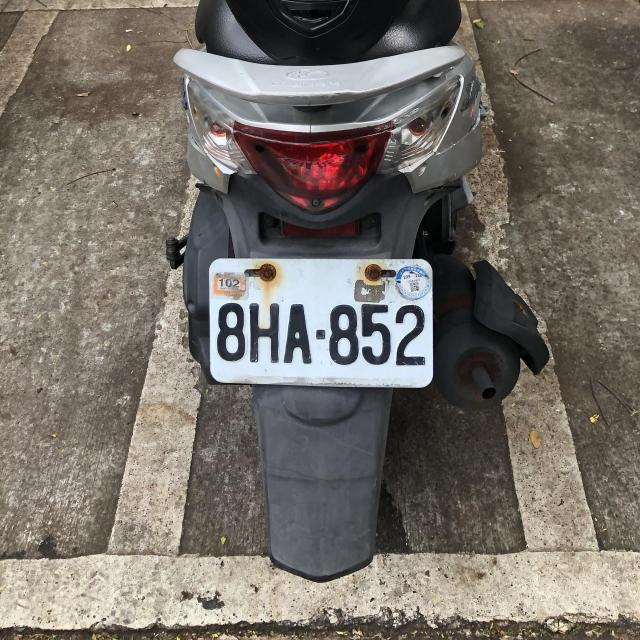W: (205, 253, 432, 389)
